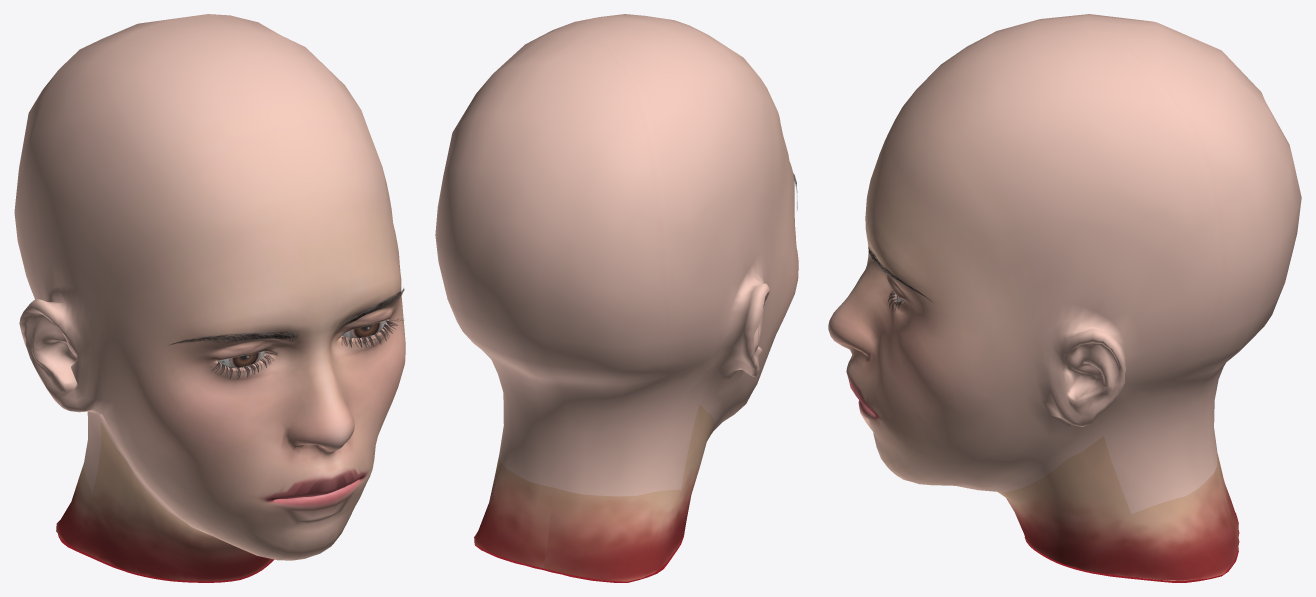
The model's file is daz_asian_head_base.glb.
3 views of the same model, side by side, from view 1: azimuth 30°, elevation 25°; view 2: azimuth 150°, elevation 25°; view 3: azimuth 270°, elevation 25° (orthographic). The views are drawn at different scales.
Parts seen in each view (by area): view 1: HeadSkin, Eyebrows, Eyelashes, Eyes, NeckCrossSection; view 2: HeadSkin, NeckCrossSection; view 3: HeadSkin.
Part boxes in pixels (left/top/right/bottom): HeadSkin: left=14, top=14, right=405, bottom=581; Eyebrows: left=170, top=288, right=404, bottom=344; Eyelashes: left=211, top=318, right=403, bottom=379; Eyes: left=217, top=320, right=385, bottom=367; NeckCrossSection: left=58, top=534, right=274, bottom=582; HeadSkin: left=435, top=14, right=798, bottom=581; NeckCrossSection: left=475, top=534, right=684, bottom=582; HeadSkin: left=828, top=14, right=1301, bottom=580.
Bounding box in the file's own units: 0.1623 × 0.2338 × 0.1981.
Materials: 8 (7 with a texture image).
